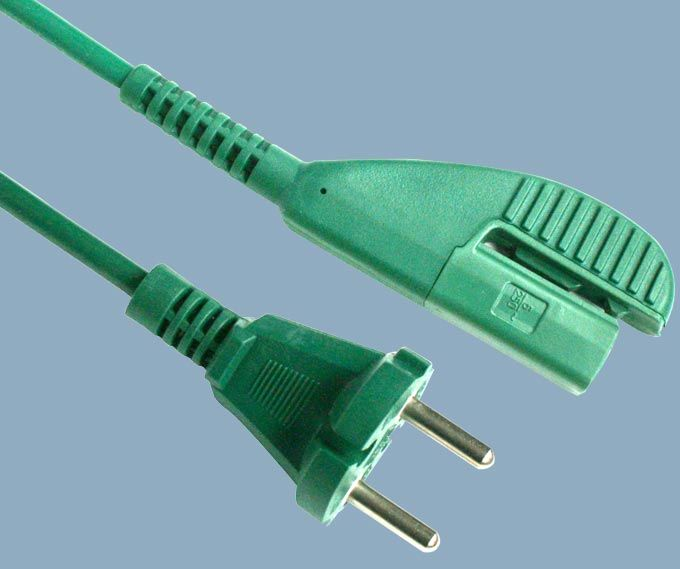Nonrec_Tangler: (21, 11, 652, 555)
